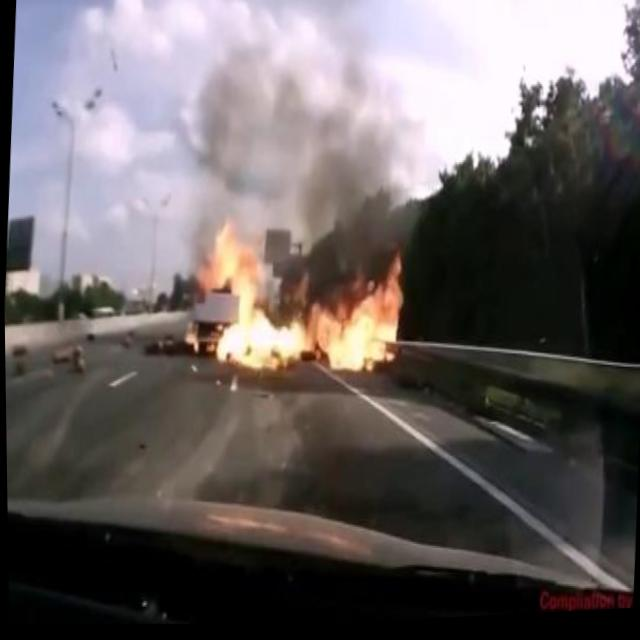fire: (179, 207, 411, 395)
